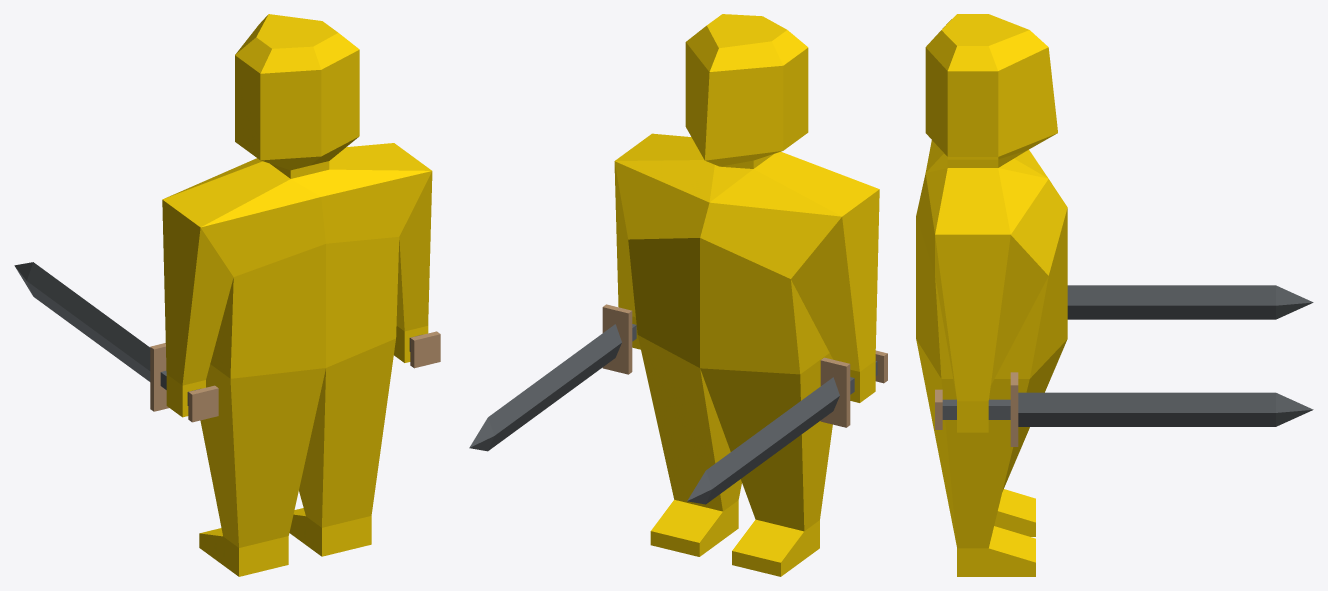
Rendered from boss.glb.
3 renders of one model, left to right at view 1: azimuth 30°, elevation 25°; view 2: azimuth 150°, elevation 25°; view 3: azimuth 270°, elevation 25°, orthographic.
Visible parts, largest first — view 1: Boss, Sword.003, Sword; view 2: Boss, Sword.003, Sword; view 3: Boss, Sword, Sword.003.
Part boxes in pixels (bbox=[...]): Boss: bbox=[162, 14, 432, 576]; Sword.003: bbox=[14, 262, 218, 422]; Sword: bbox=[409, 331, 440, 368]; Boss: bbox=[614, 14, 879, 576]; Sword.003: bbox=[687, 350, 887, 504]; Sword: bbox=[469, 304, 636, 451]; Boss: bbox=[916, 14, 1067, 576]; Sword: bbox=[935, 372, 1313, 446]; Sword.003: bbox=[1067, 285, 1313, 319].
Bounding box in the file's own units: 1.5 × 3 × 2.1.
